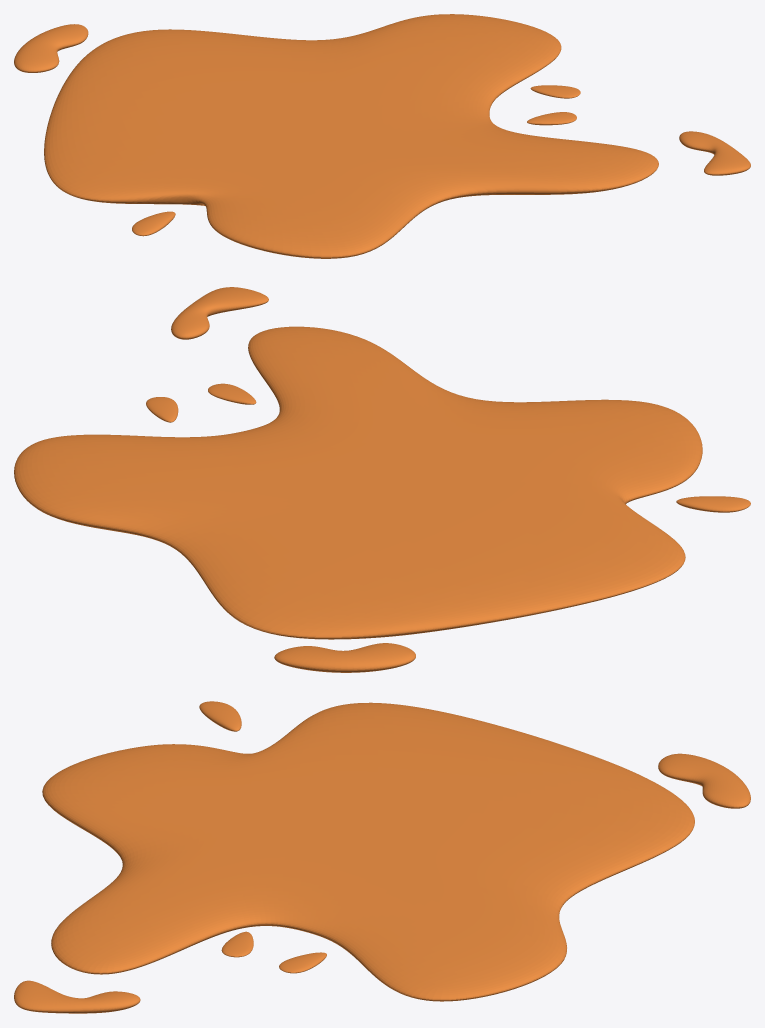
File: assets mancha de grasa 1.fbx
3 renders of one model, top to bottom at view 1: azimuth 30°, elevation 25°; view 2: azimuth 150°, elevation 25°; view 3: azimuth 270°, elevation 25°, orthographic. The views are drawn at different scales.
Parts seen in each view (by area): view 1: Miel 1; view 2: Miel 1; view 3: Miel 1.
Part boxes in pixels (bbox=[...]): Miel 1: bbox=[14, 14, 750, 258]; Miel 1: bbox=[14, 287, 750, 672]; Miel 1: bbox=[14, 701, 750, 1013].
Size of the model in its own units: 357 by 11.46 by 361.
